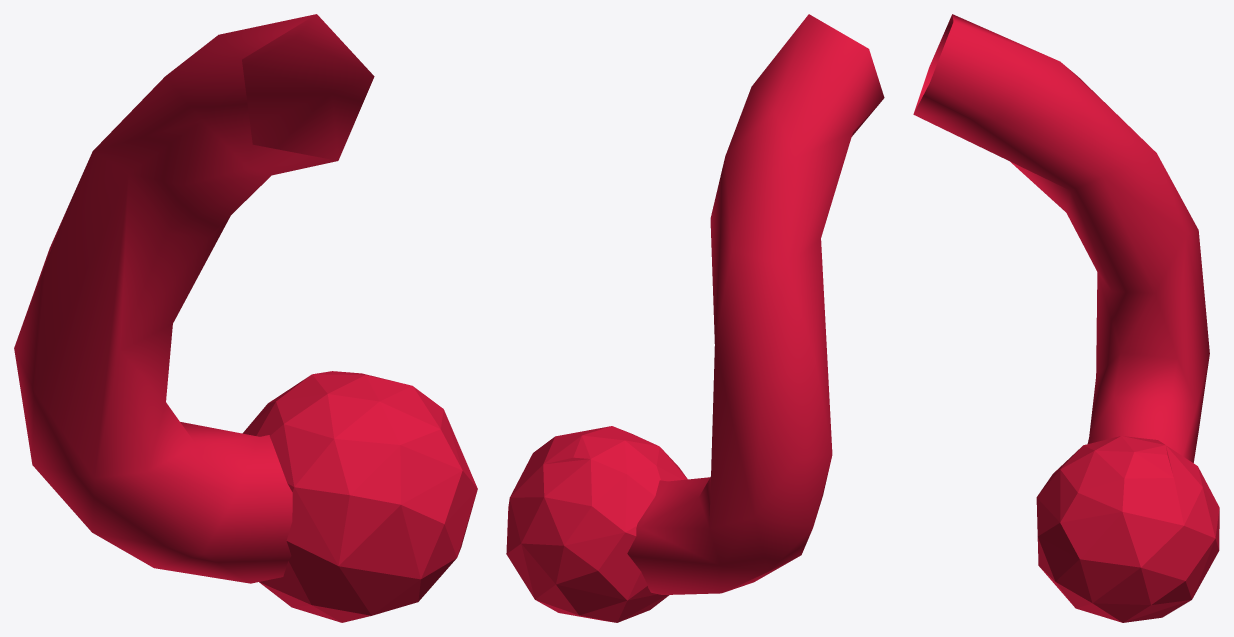
File: l_arm.obj
The picture shows the model from 3 angles, left to right: view 1: azimuth 30°, elevation 25°; view 2: azimuth 150°, elevation 25°; view 3: azimuth 270°, elevation 25°; orthographic projection. The views are drawn at different scales.
Visible parts, largest first — view 1: r_arm.003_Sphere.008; view 2: r_arm.003_Sphere.008; view 3: r_arm.003_Sphere.008.
Boxes of the visible parts, <box> form: r_arm.003_Sphere.008: <box>14,14,477,622</box>; r_arm.003_Sphere.008: <box>506,14,884,622</box>; r_arm.003_Sphere.008: <box>913,14,1219,622</box>.
Size of the model in its own units: 0.4154 by 0.6849 by 0.3539.
